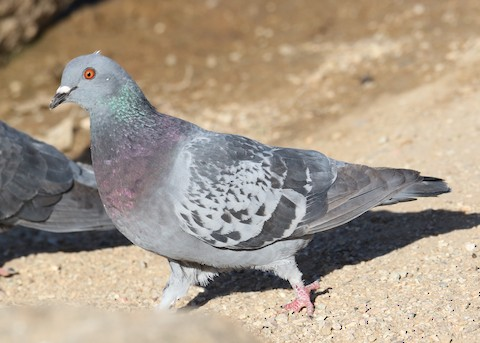pigeon: (47, 47, 456, 318)
